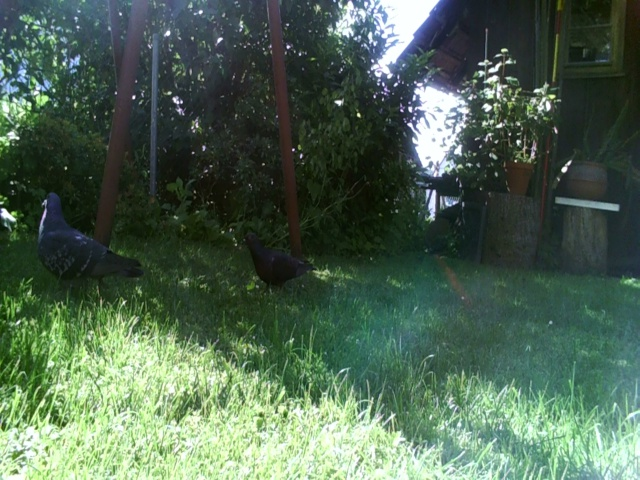Pigeon: (27, 192, 151, 290), (237, 226, 320, 297)
